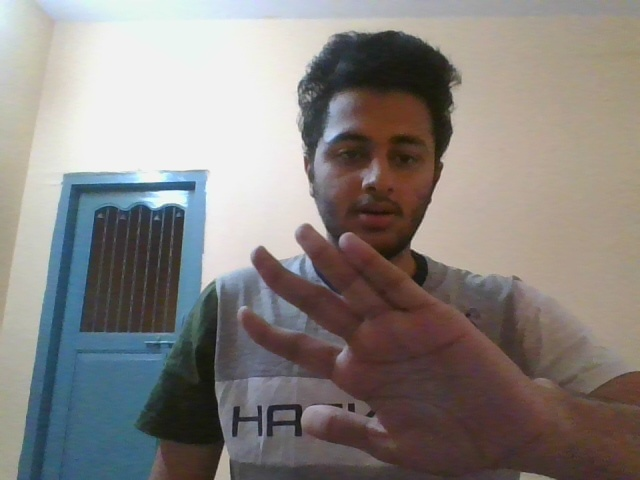Goodbye: (235, 221, 546, 480)
